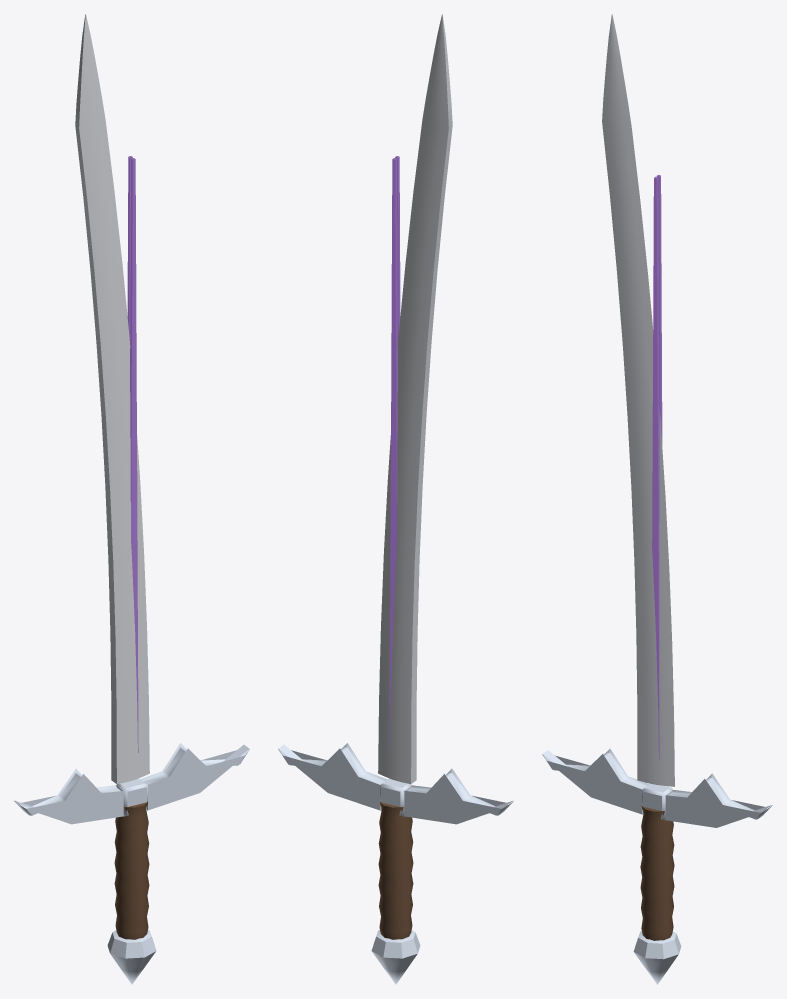
Rendered from depth_hollowfin_estoc.glb.
3 views of the same model, side by side, from view 1: azimuth 30°, elevation 25°; view 2: azimuth 150°, elevation 25°; view 3: azimuth 330°, elevation 25° (orthographic). The views are drawn at different scales.
Parts seen in each view (by area): view 1: depth_hollowfin_estoc; view 2: depth_hollowfin_estoc; view 3: depth_hollowfin_estoc.
Part boxes in pixels (x1,y1,x2,y2): depth_hollowfin_estoc: [14, 14, 249, 984]; depth_hollowfin_estoc: [278, 14, 513, 984]; depth_hollowfin_estoc: [542, 14, 772, 984].
Size of the model in its own units: 0.2835 by 1.16 by 0.054.
